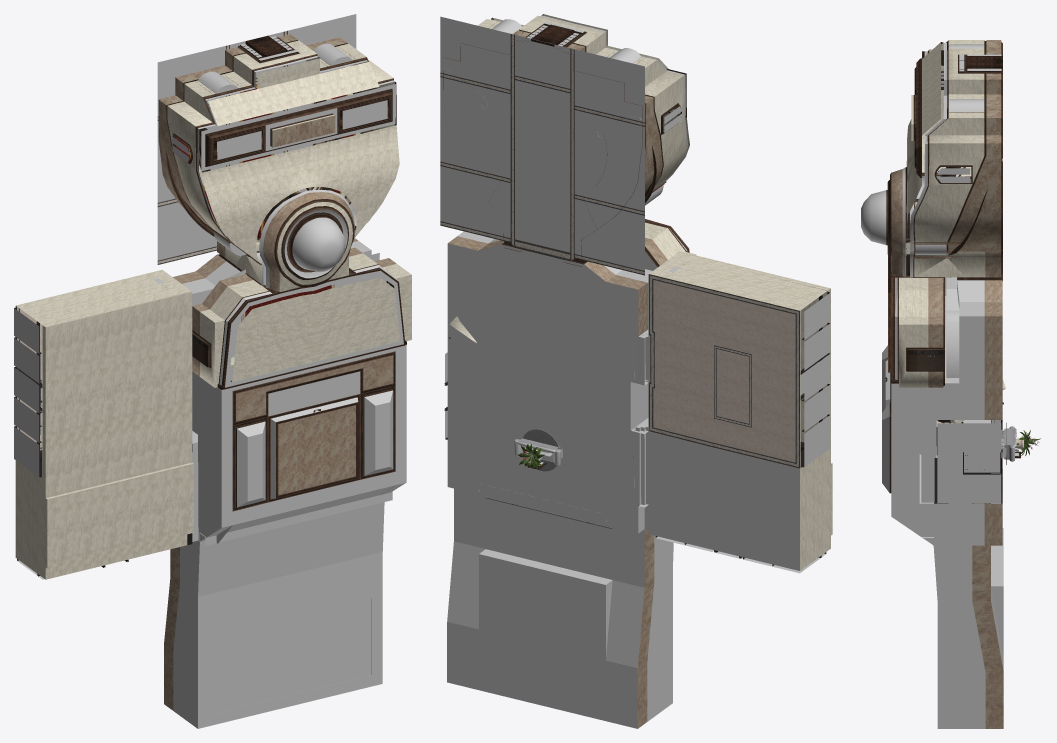
File: Mansion_Level_Interior.FBX
The picture shows the model from 3 angles, left to right: view 1: azimuth 30°, elevation 25°; view 2: azimuth 150°, elevation 25°; view 3: azimuth 270°, elevation 25°; orthographic projection. The views are drawn at different scales.
Parts seen in each view (by area): view 1: Mansion_Interior; view 2: Mansion_Interior; view 3: Mansion_Interior, WP_Test_Props134, WP_Test_Props131.
Part boxes in pixels (left/top/right/bottom): Mansion_Interior: left=14, top=14, right=411, bottom=728; Mansion_Interior: left=440, top=14, right=832, bottom=728; Mansion_Interior: left=861, top=40, right=1005, bottom=728; WP_Test_Props134: left=1001, top=426, right=1016, bottom=461; WP_Test_Props131: left=1016, top=430, right=1040, bottom=455.
Size of the model in its own units: 25.5 by 44.48 by 11.74.
